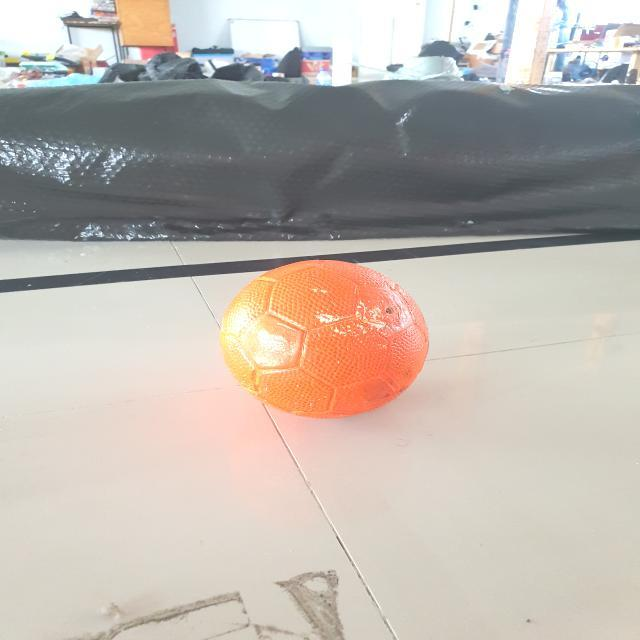bola: (206, 244, 451, 428)
